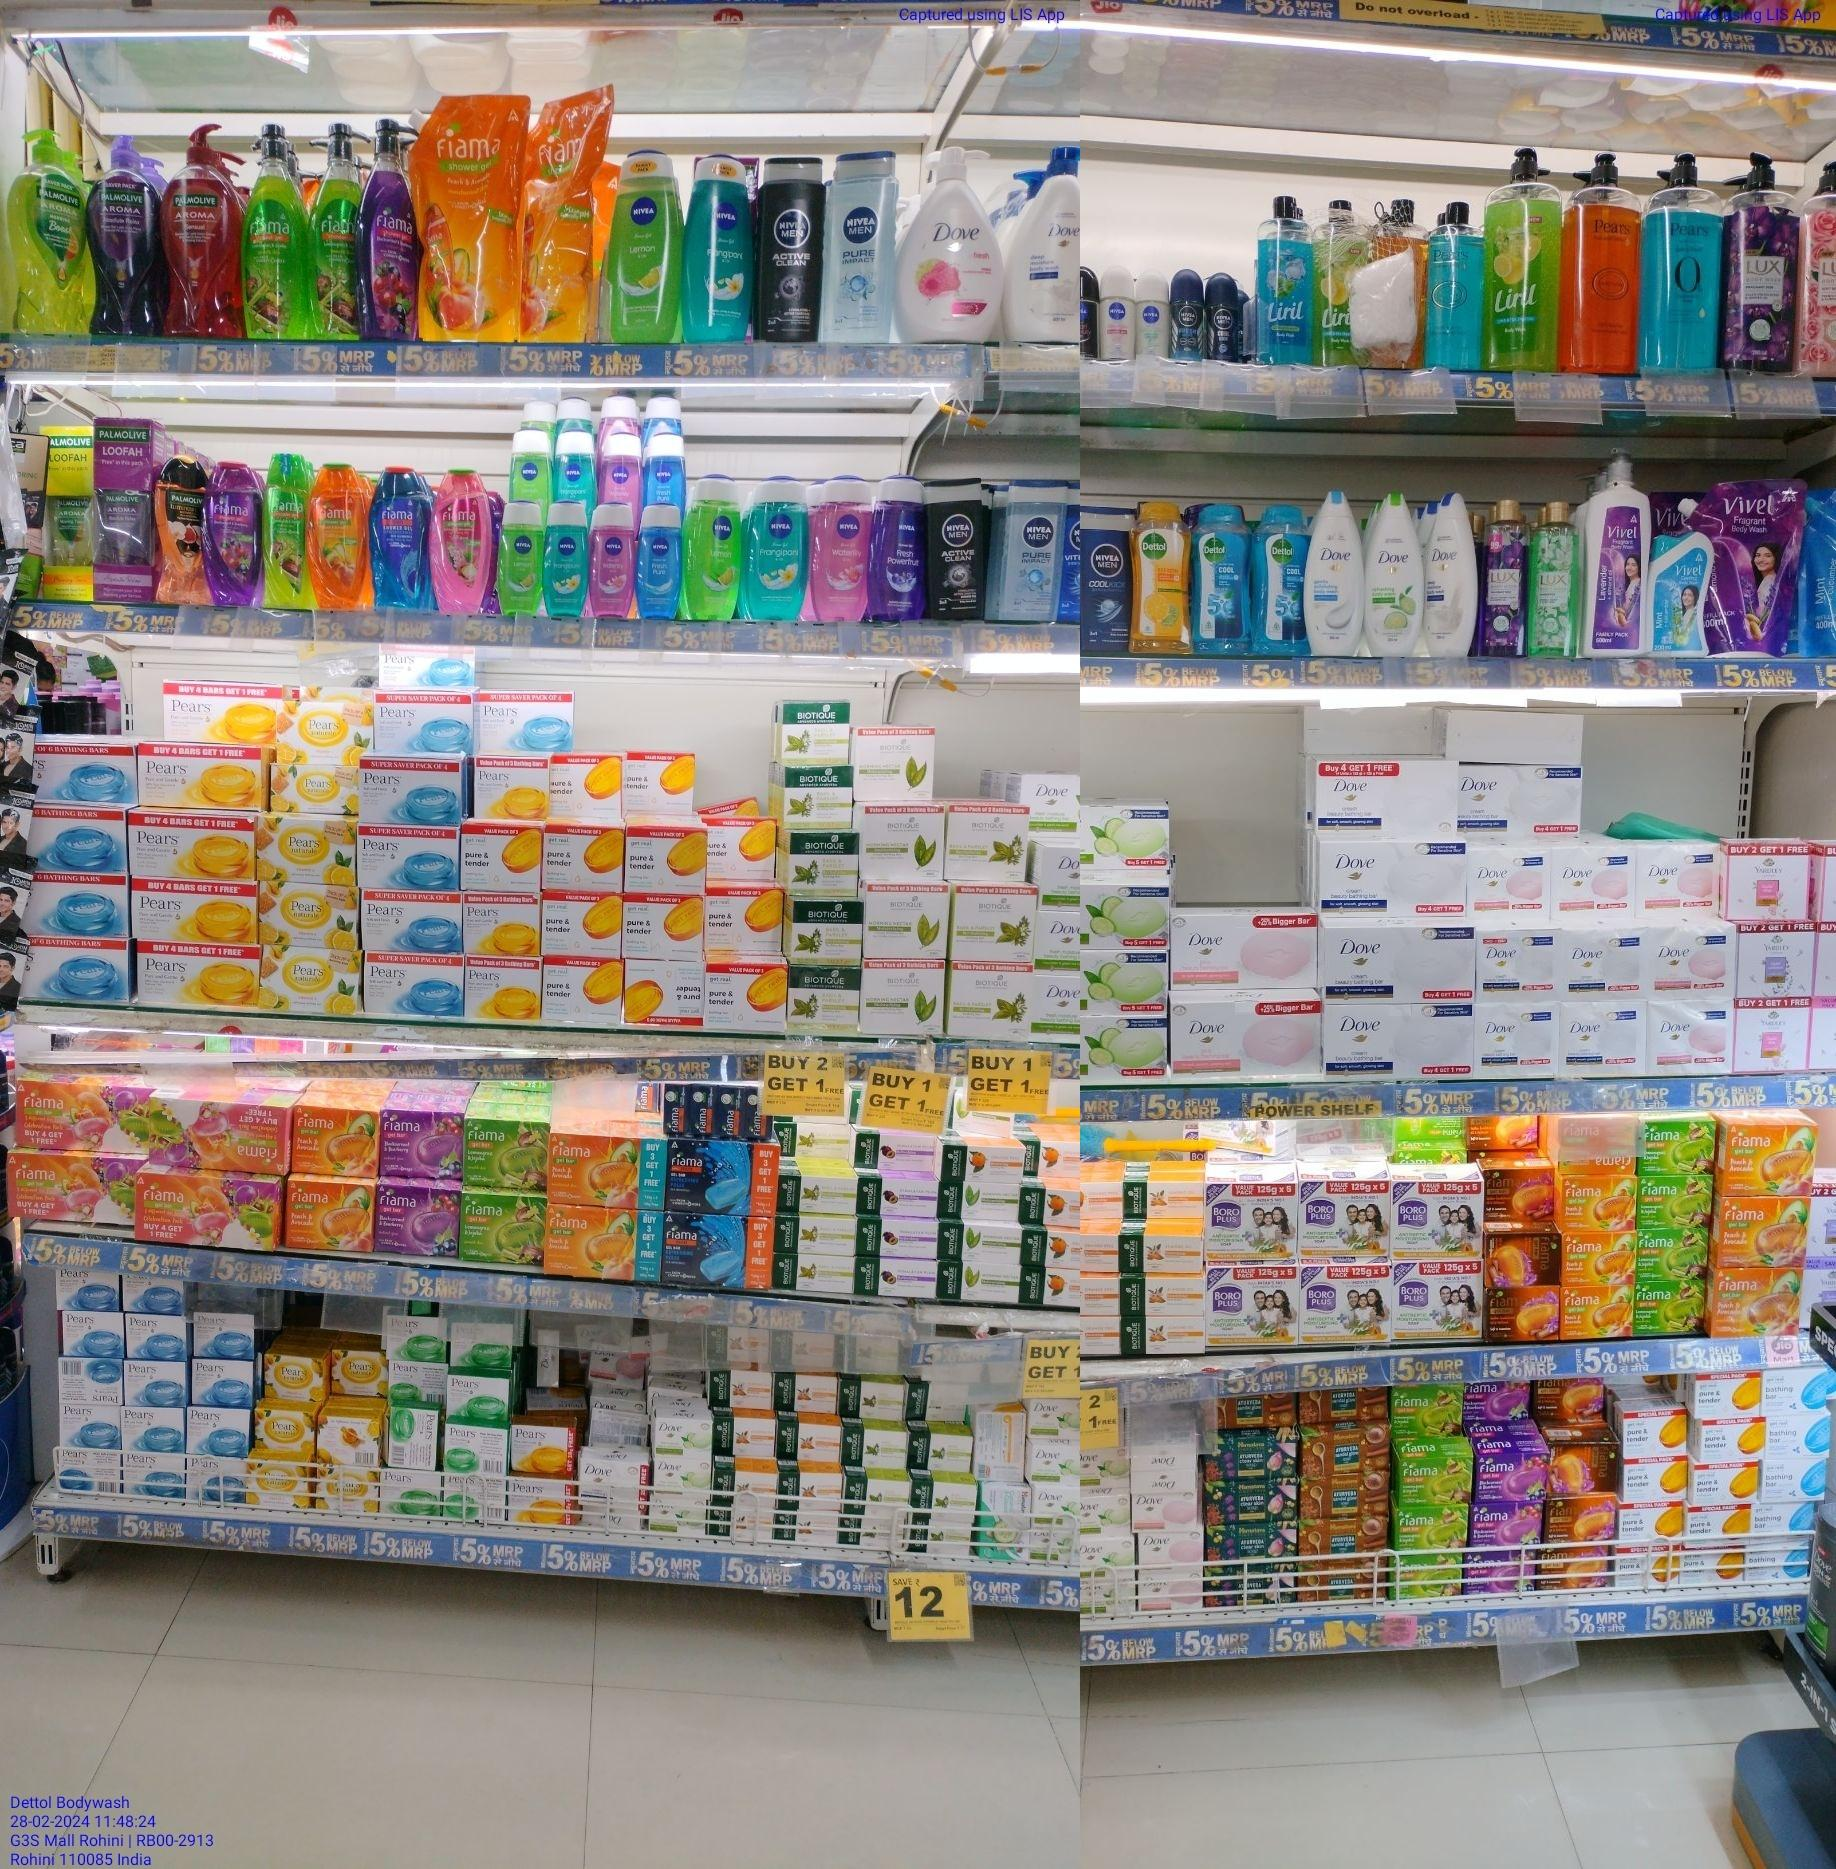Dettol_Bodywash_Cool: (1200, 499, 1253, 657), (1256, 499, 1305, 662)
Dettol_Bodywash_Refresh: (1126, 498, 1190, 657)
Dove_Deep_Moisture_Body_Wash_250ML: (1426, 487, 1476, 657)
Dove_Gentle_Exfoliating_Body_Wash_250ML: (1310, 491, 1364, 657)
Dove_Refreshing_Body_Wash_250ML: (1369, 492, 1426, 662)
Fiama_Shower_Gel_Lemongrass_and_Jojoba_250ML: (261, 450, 309, 608)
Fiama_Shower_Gel_Patchouli_and_Macadamia_250ML: (432, 461, 488, 617)
Fiama_Shower_Gel_Peach_and_Avocado_250ML: (309, 459, 373, 608)
Liril_Cooling_Mint_Body_Wash_250ML: (1258, 192, 1318, 368)
Lux_Black_Orchid_Scent_and_Juniper_Oil_Body_Wash_245ML: (1481, 498, 1530, 659)
Lux_Body_Wash_Skin_Detox_Freesia_Scent_and_Alove_Vera_245ML: (1532, 498, 1582, 662)
Nivea_Shower_Gel_Frangipani_and_Oil_250ML: (684, 153, 762, 350), (745, 472, 807, 625)
Nivea_Shower_Gel_Fresh_Powerfruit_250ML: (873, 472, 931, 613)
Nivea_Shower_Gel_Lemon_and_Oil_250ML: (614, 141, 681, 351), (686, 471, 741, 620)
Nivea_Shower_Gel_Waterlily_and_Oil_250ML: (814, 477, 868, 622)
Palmolive_Luminous_Oils_With_White_Orchid_Shower_Gel_250ML: (158, 455, 214, 607)
Pears_Pure_Glycerin_and_Mint_Extracts_Body_Wash_250ML: (1429, 202, 1486, 373)
